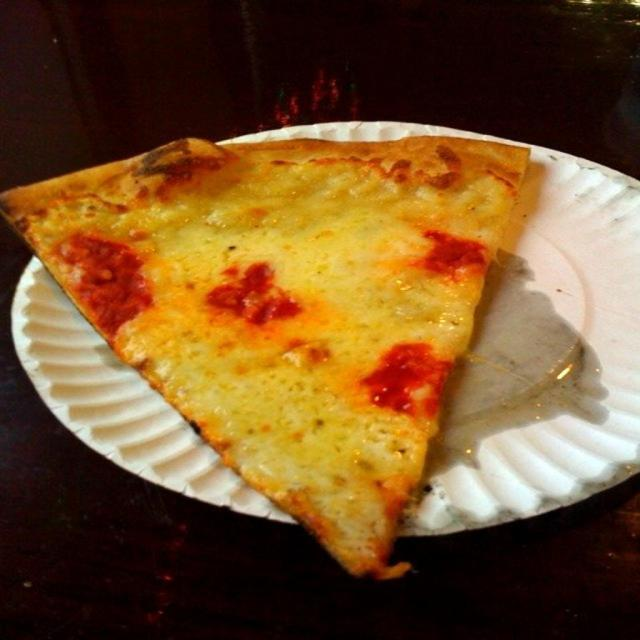Pizza: (13, 123, 579, 577)
